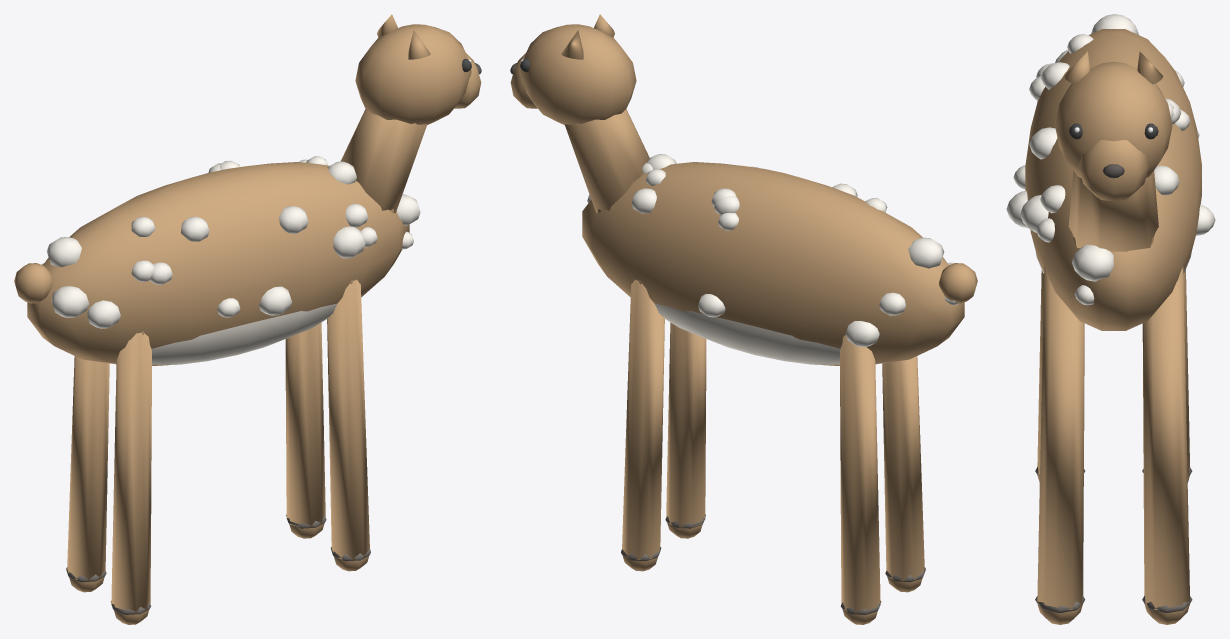
File: formosan-sika-deer.glb
3 views of the same model, side by side, from view 1: azimuth 30°, elevation 25°; view 2: azimuth 150°, elevation 25°; view 3: azimuth 270°, elevation 25° (orthographic). The views are drawn at different scales.
Visible parts, largest first — view 1: e, cone, e.051; view 2: e, cone, e.051; view 3: e, cone.
Boxes of the visible parts, x1,y1,x2,y2 form: e: (27,109,427,624); cone: (355,14,481,124); e.051: (14,263,52,303); e: (564,109,964,624); cone: (510,14,636,124); e.051: (939,263,977,303); e: (1006,14,1215,624); cone: (1055,51,1172,201).
Size of the model in its own units: 1.22 by 1.29 by 0.3986.
